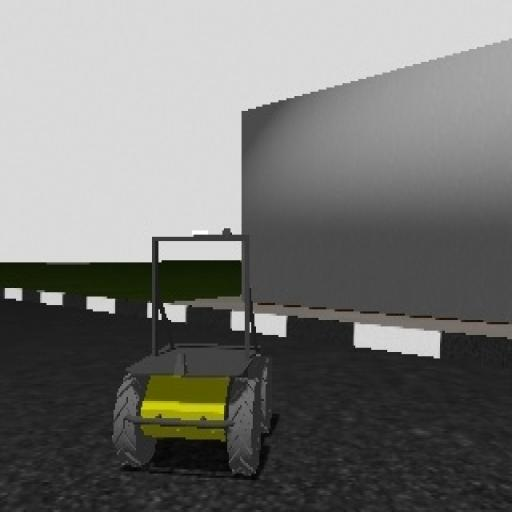huskya200: (102, 219, 286, 480)
